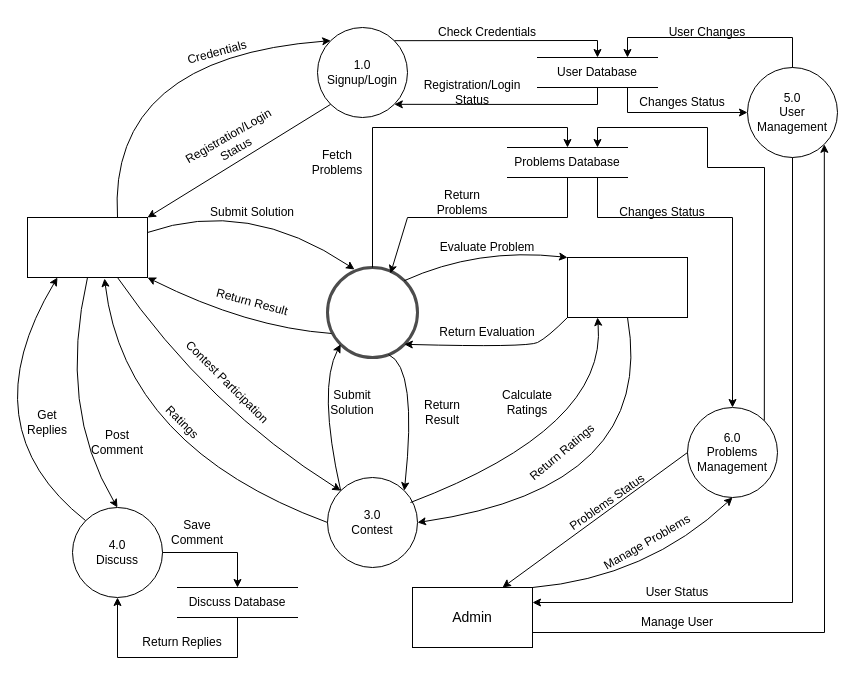
Image size: 855x683. Some labels were removed from this diagram. Here are the shapes that lost their labels. From the top down, the centre of each, then its label:
At [87,247]: "User".
At [627,287]: "Evaluator System".
At [372,312]: "2.0 Solve Problems".
